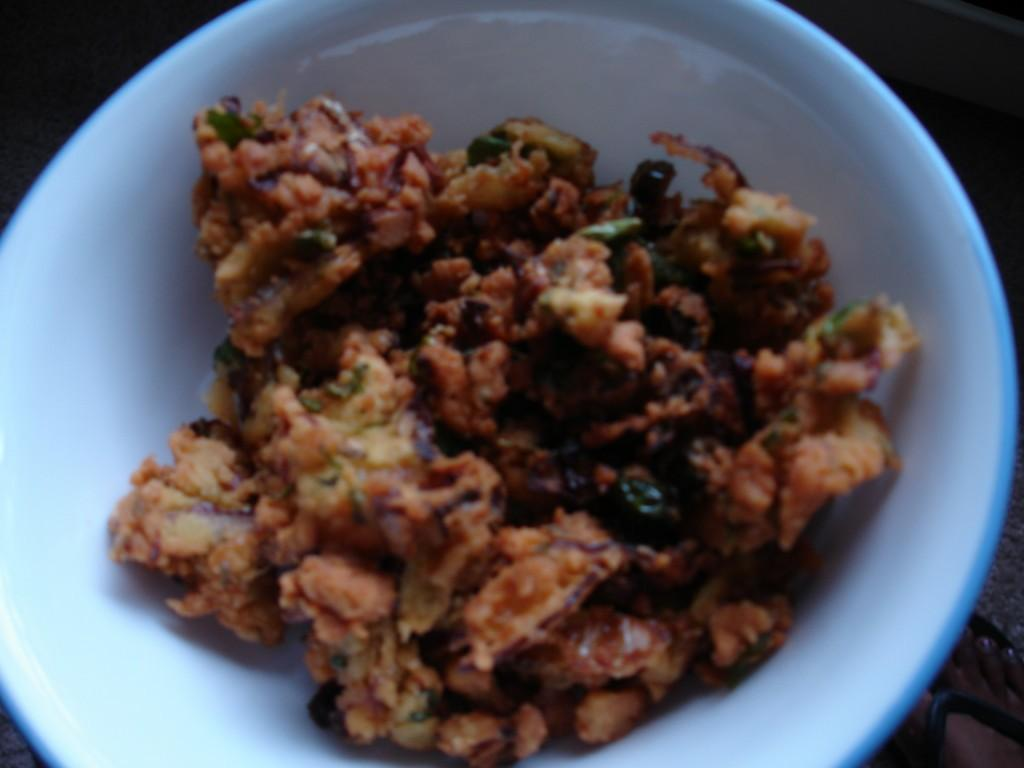OnionPakoda: (109, 84, 919, 764)
